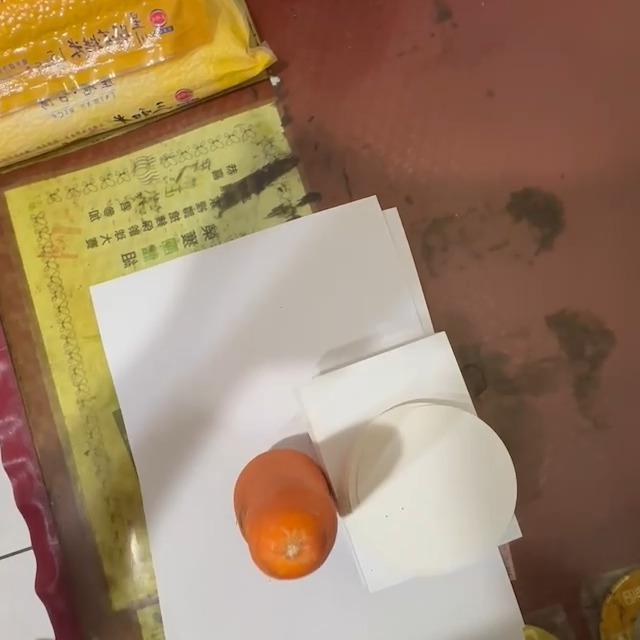carrot: (231, 448, 337, 585)
